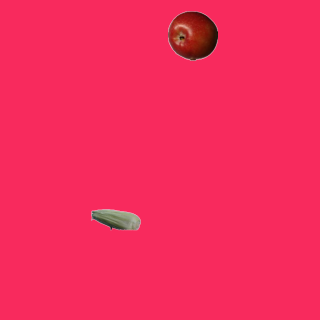Apple Braeburn: (167, 10, 217, 60)
Corn Husk: (90, 194, 140, 244)
